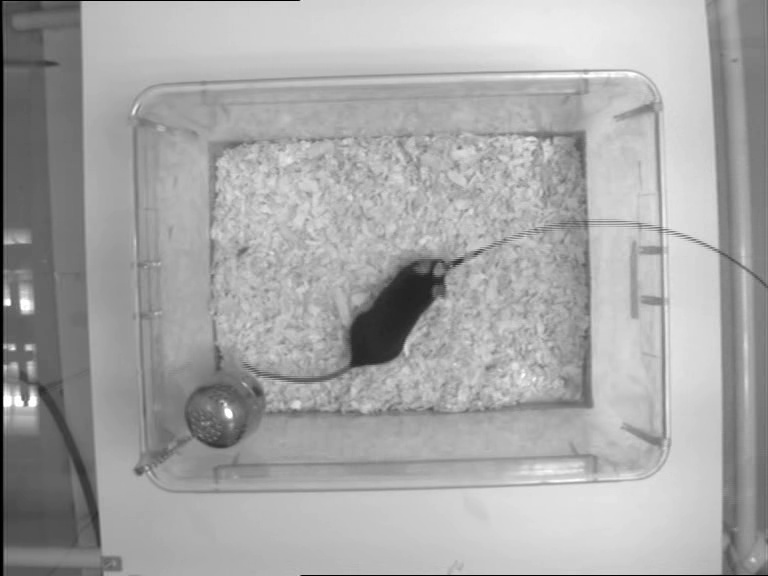mice: (241, 256, 450, 381)
